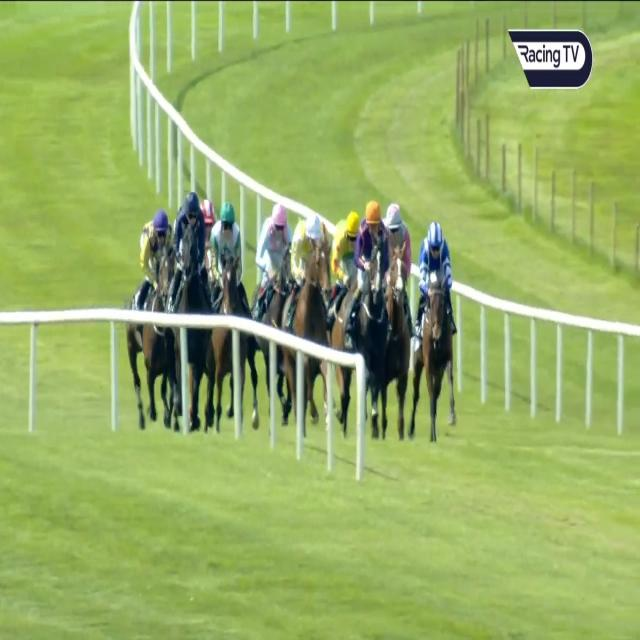horses-racing: (280, 213, 328, 395), (169, 180, 207, 406), (210, 195, 245, 429), (356, 198, 388, 430), (417, 223, 451, 434), (247, 195, 290, 345), (136, 209, 172, 388), (330, 199, 356, 337), (386, 195, 420, 276), (191, 191, 217, 263)
